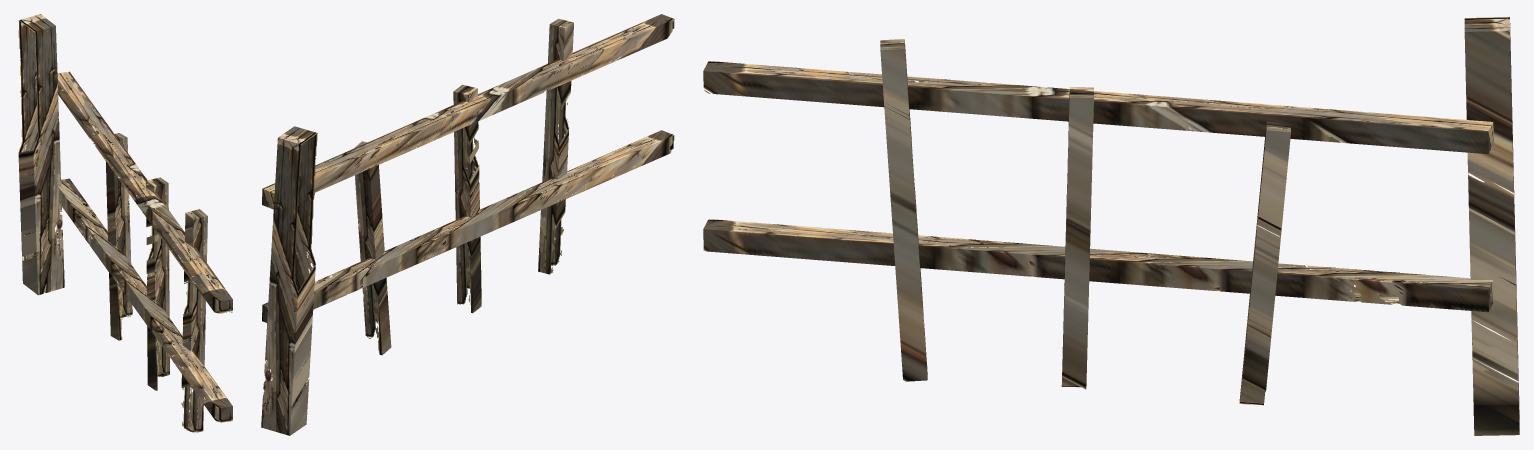
File: fence_11.glb
3 views of the same model, side by side, from view 1: azimuth 30°, elevation 25°; view 2: azimuth 150°, elevation 25°; view 3: azimuth 270°, elevation 25° (orthographic). The views are drawn at different scales.
Visible parts, largest first — view 1: fence_11_game; view 2: fence_11_game; view 3: fence_11_game.
Boxes of the visible parts, x1,y1,x2,y2 form: fence_11_game: [18, 14, 232, 432]; fence_11_game: [261, 14, 674, 435]; fence_11_game: [703, 16, 1519, 435].
Size of the model in its own units: 0.5686 by 1.26 by 2.34.
1 material, 1 textured.
